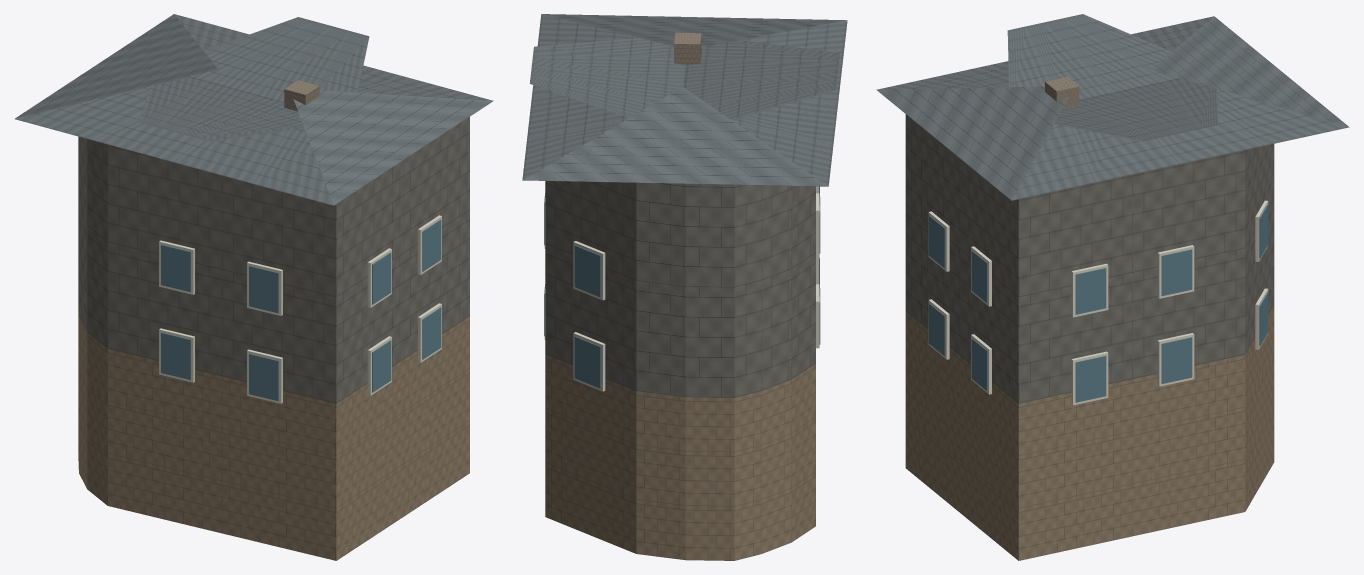
The model's file is core_0152.gltf.
The picture shows the model from 3 angles, left to right: view 1: azimuth 30°, elevation 25°; view 2: azimuth 150°, elevation 25°; view 3: azimuth 270°, elevation 25°; orthographic projection. The views are drawn at different scales.
Parts seen in each view (by area): view 1: core_0152; view 2: core_0152; view 3: core_0152.
Part boxes in pixels (x1,y1,x2,y2): core_0152: (15, 14, 493, 560); core_0152: (522, 14, 847, 560); core_0152: (876, 14, 1349, 560).
Bounding box in the file's own units: 12.84 × 13.15 × 13.91.
Materials: 6 (6 with a texture image).
